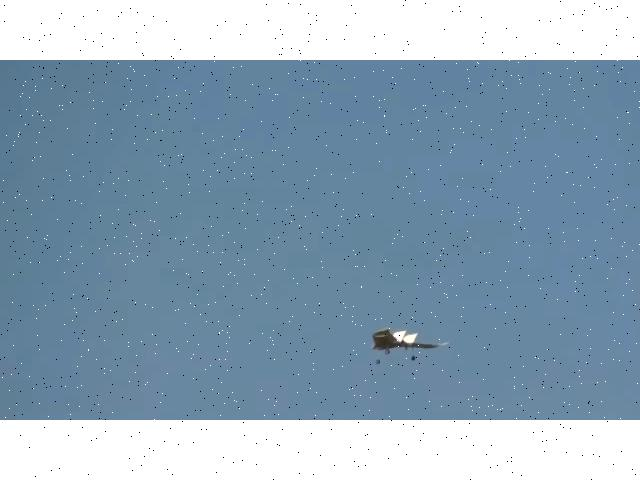Anti-Drone: (370, 329, 450, 350)
